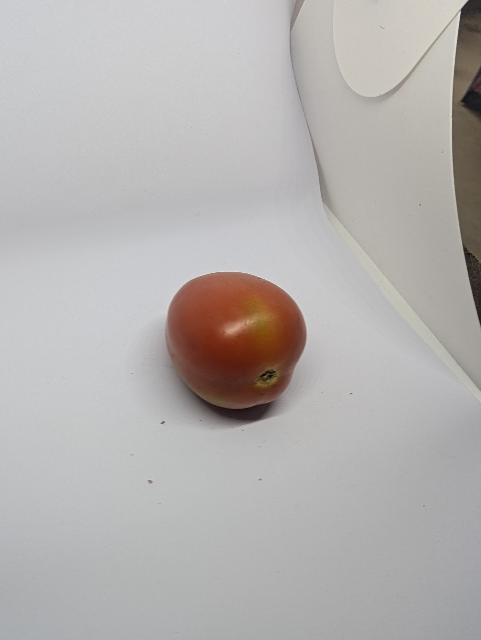turning: (163, 269, 313, 412)
